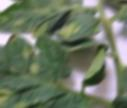Tomato mold leaf: (0, 34, 89, 108), (0, 0, 90, 39)
